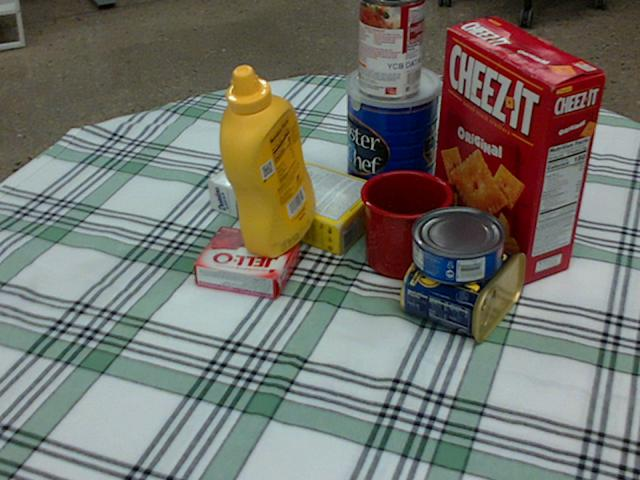cracker_box: (431, 17, 607, 281)
gelatin_box: (194, 228, 301, 300)
master_chef_can: (345, 62, 441, 215)
mug: (361, 170, 455, 279)
mustard_bottle: (219, 65, 314, 257)
potted_meat_can: (402, 227, 528, 338)
sugar_box: (205, 144, 383, 254)
tomato_soup_can: (359, 0, 425, 99)
tuna_fish_can: (411, 207, 505, 283)
